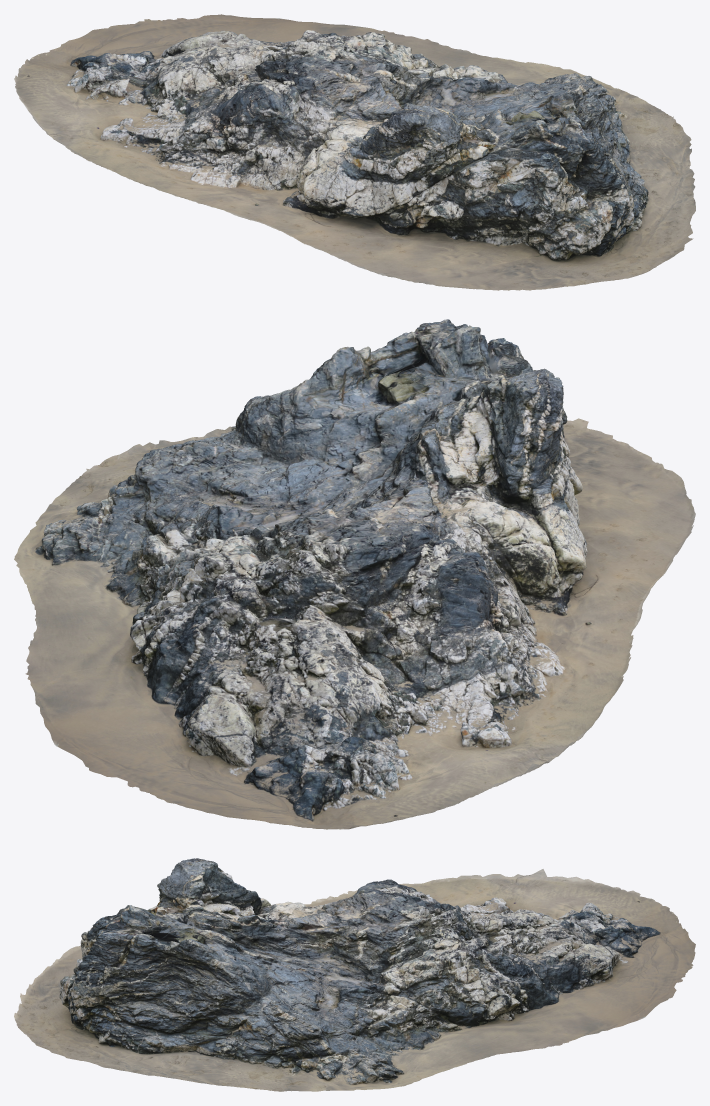
Rendered from beach_rock.glb.
3 renders of one model, top to bottom at view 1: azimuth 30°, elevation 25°; view 2: azimuth 150°, elevation 25°; view 3: azimuth 270°, elevation 25°, orthographic. The views are drawn at different scales.
Visible parts, largest first — view 1: Model; view 2: Model; view 3: Model.
Boxes of the visible parts, bbox=[...] form: Model: bbox=[14, 14, 695, 290]; Model: bbox=[14, 319, 695, 829]; Model: bbox=[14, 858, 695, 1091].
Bounding box in the file's own units: 2.77 × 0.6802 × 3.74.
Materials: 2 (2 with a texture image).
